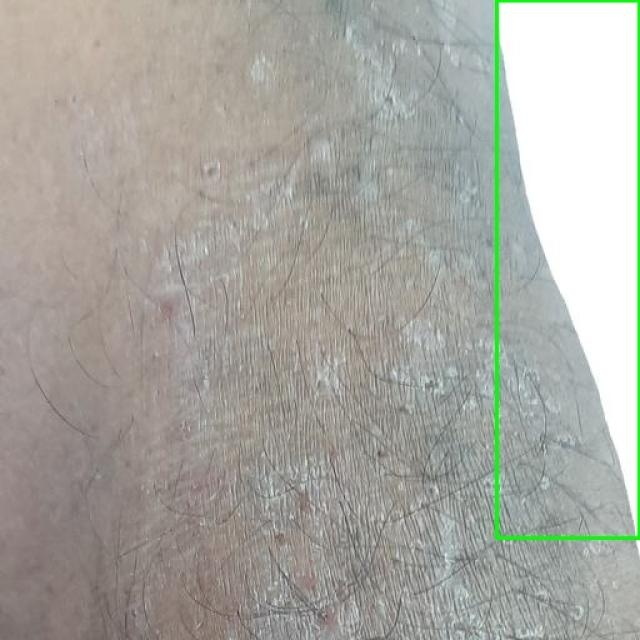Contact Dermatitis: (496, 0, 639, 539)
